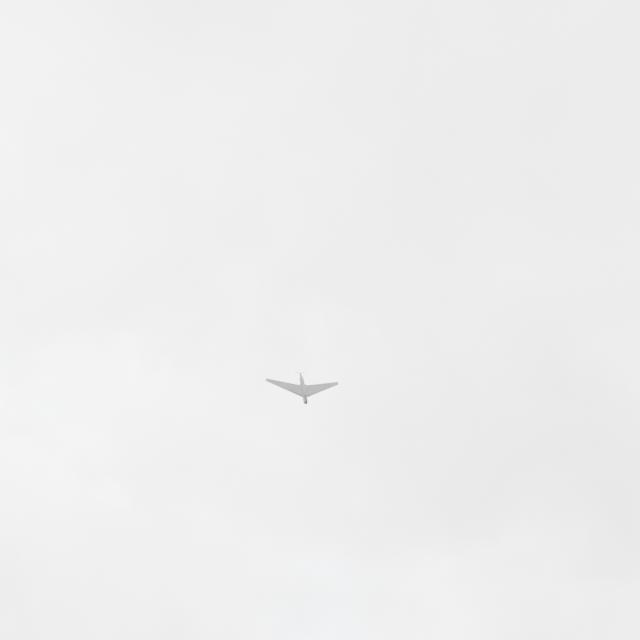Airaplan: (265, 372, 338, 404)
